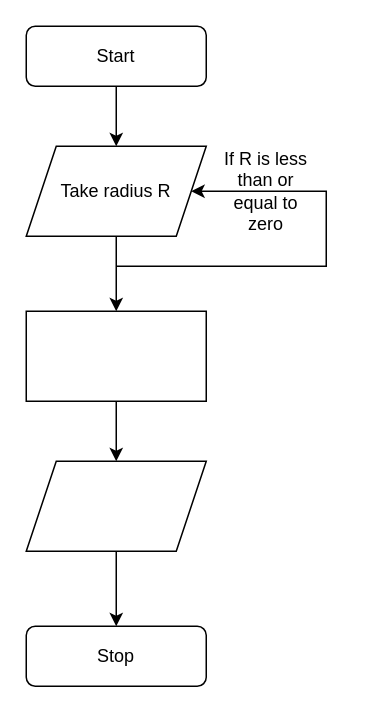
This 365x713 diagram has some shape labels left out. Here are the shapes that lost their labels. From the top down, the centre of each, then its label:
At (115,355): "Calculate area Area=pi*R*R".
At (115,505): "Print Area".
